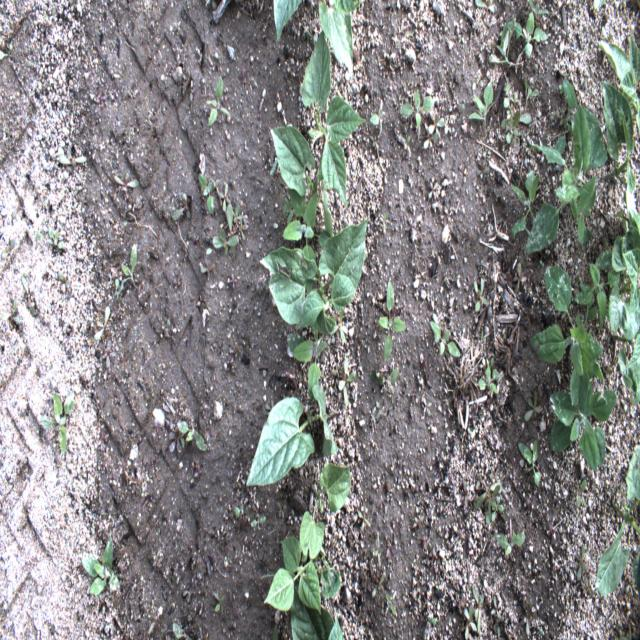crop: (261, 215, 369, 328), (300, 33, 368, 210), (525, 107, 596, 252), (592, 192, 640, 405), (246, 385, 339, 487), (528, 266, 604, 384), (548, 368, 618, 474), (262, 534, 344, 614), (598, 444, 639, 596), (584, 81, 634, 197), (298, 461, 352, 559), (597, 29, 639, 132), (287, 324, 338, 400), (269, 122, 320, 196), (281, 192, 334, 262), (318, 0, 363, 79), (290, 580, 345, 640), (273, 0, 303, 40)
weed: (576, 266, 620, 327), (377, 279, 407, 365), (510, 167, 542, 240), (82, 538, 122, 596), (41, 389, 76, 455), (490, 19, 524, 67), (212, 202, 239, 261), (514, 12, 547, 59), (399, 88, 434, 132), (555, 81, 577, 151), (472, 480, 502, 524), (468, 80, 498, 122), (114, 247, 138, 299), (207, 74, 230, 128), (517, 438, 542, 486), (430, 321, 461, 358), (174, 420, 208, 453), (338, 357, 357, 409), (198, 173, 220, 216), (494, 529, 526, 558), (472, 581, 486, 638), (477, 368, 500, 396), (94, 304, 110, 342), (473, 277, 490, 312), (524, 391, 542, 423), (486, 496, 505, 526), (58, 150, 86, 170), (21, 275, 34, 318), (576, 543, 590, 582), (172, 193, 190, 223), (518, 601, 532, 639), (370, 570, 386, 600), (491, 595, 503, 635), (463, 608, 478, 640), (526, 0, 549, 20), (332, 311, 346, 343), (217, 182, 230, 216), (512, 263, 526, 294), (428, 113, 446, 137), (524, 76, 537, 109), (113, 172, 138, 188), (368, 366, 386, 388), (577, 477, 588, 510), (172, 624, 194, 640), (373, 532, 383, 564), (508, 112, 518, 144), (358, 510, 372, 532), (49, 230, 66, 248), (0, 239, 16, 258), (580, 576, 595, 596), (8, 299, 20, 324), (502, 105, 512, 134), (386, 591, 396, 617), (250, 512, 266, 528), (271, 624, 288, 639), (213, 593, 225, 614), (475, 0, 497, 11), (425, 131, 440, 147), (369, 109, 384, 125), (372, 399, 381, 422), (233, 504, 245, 520), (233, 203, 243, 222), (476, 166, 490, 179), (239, 215, 246, 241), (390, 365, 399, 385), (503, 88, 513, 105), (520, 114, 533, 127), (486, 356, 496, 372), (381, 210, 388, 232), (58, 273, 69, 286), (592, 1, 606, 11), (305, 30, 313, 45), (478, 326, 485, 342), (35, 227, 43, 241), (404, 134, 411, 150), (432, 582, 442, 593), (512, 95, 519, 109), (150, 618, 156, 634), (429, 547, 437, 559), (278, 502, 284, 518), (42, 10, 49, 23), (428, 616, 437, 626), (0, 49, 8, 59), (538, 627, 545, 636), (549, 112, 559, 118), (467, 426, 472, 437), (0, 312, 6, 321), (558, 85, 562, 95)
